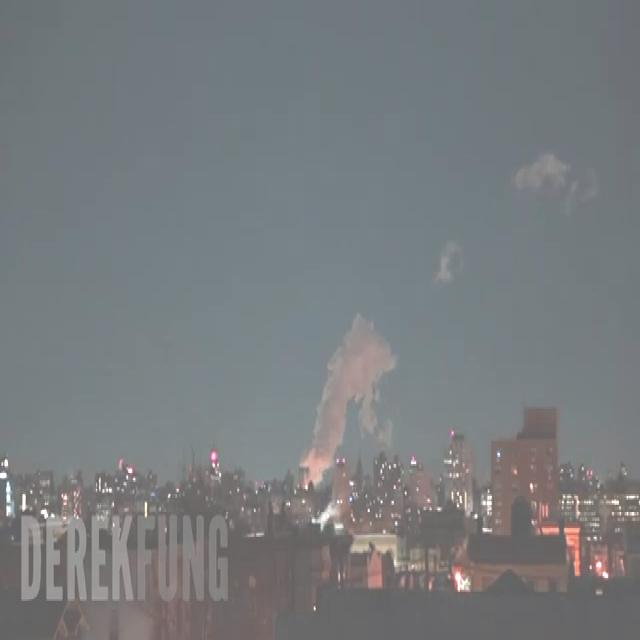smoke: (301, 315, 395, 478)
